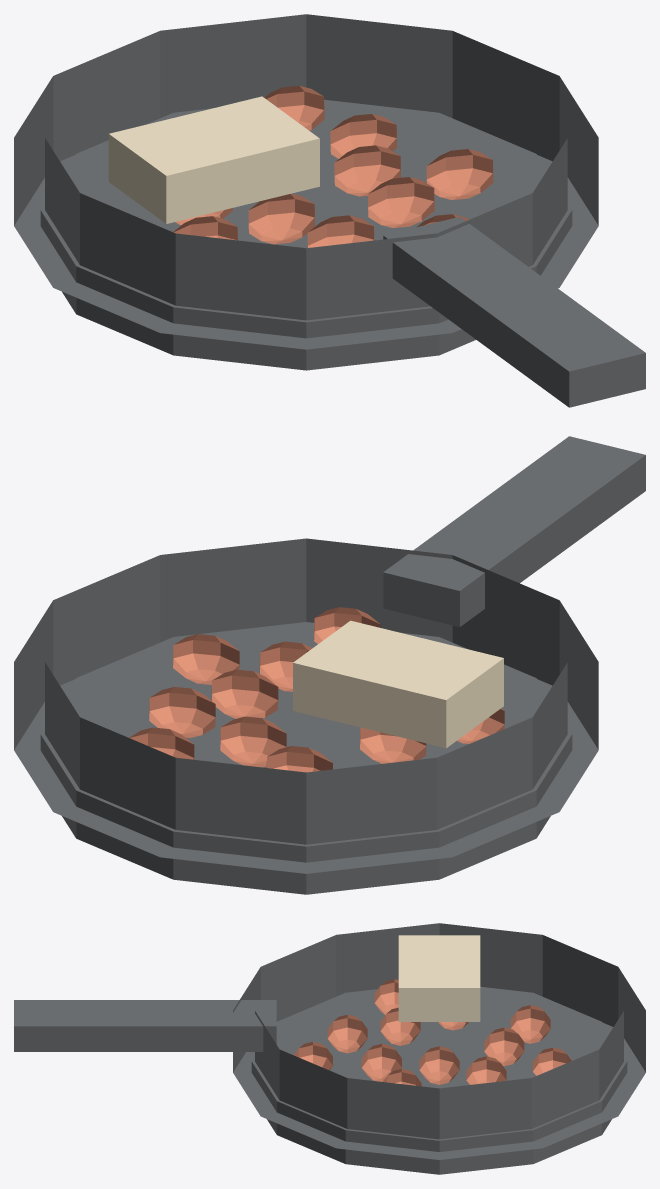
The model's file is frontier-bean-skillet-meal__246.glb.
The picture shows the model from 3 angles, top to bottom: view 1: azimuth 30°, elevation 25°; view 2: azimuth 150°, elevation 25°; view 3: azimuth 270°, elevation 25°; orthographic projection. The views are drawn at different scales.
Visible parts, largest first — view 1: frontier-post-bean-skillet; view 2: frontier-post-bean-skillet; view 3: frontier-post-bean-skillet.
Boxes of the visible parts, box(x1,y1,x2,y2) form: frontier-post-bean-skillet: box(14, 14, 645, 407); frontier-post-bean-skillet: box(14, 436, 645, 894); frontier-post-bean-skillet: box(14, 923, 645, 1174).
Size of the model in its own units: 0.66 by 0.18 by 1.01.
